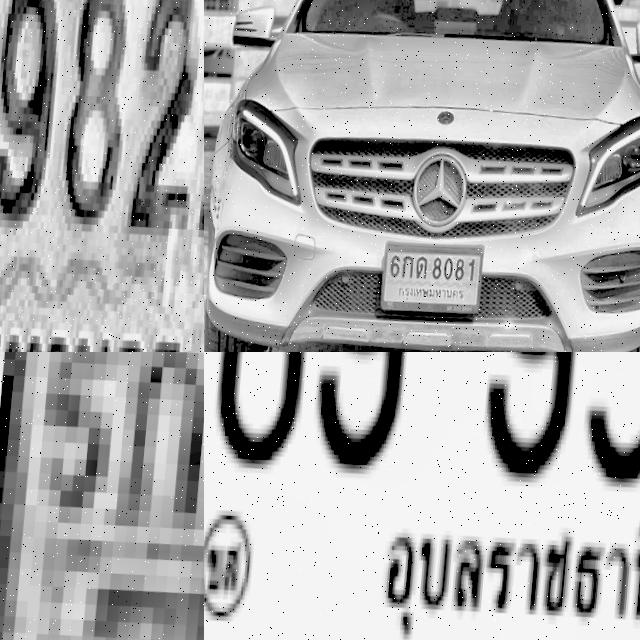license-plate: (204, 352, 640, 640), (0, 0, 204, 352), (0, 352, 204, 640), (376, 237, 486, 321)
